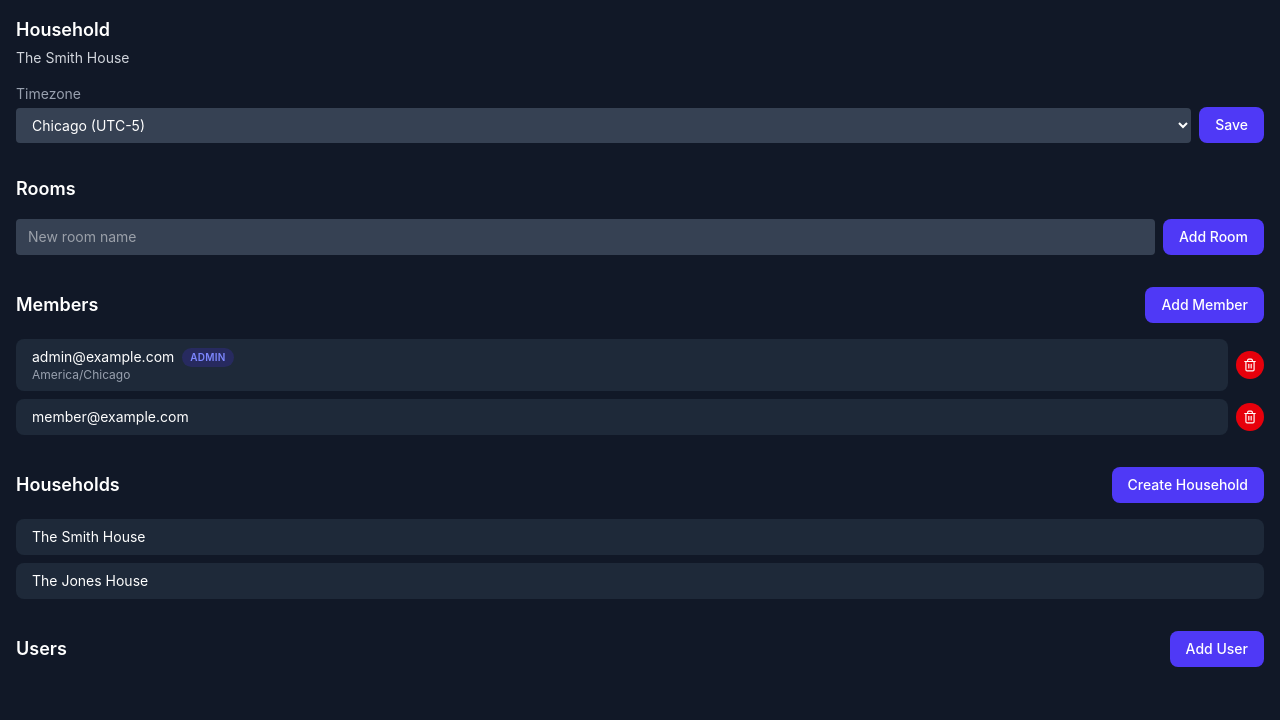
AdminPanel › submits the Add User form to POST /api/admin/members and appends to the list for the current household
Check: the text "admin@example.com" is shown, box [32,347,174,367]
Step 1. Click the button "Add User" → (1217, 649), box [1170,631,1264,667]
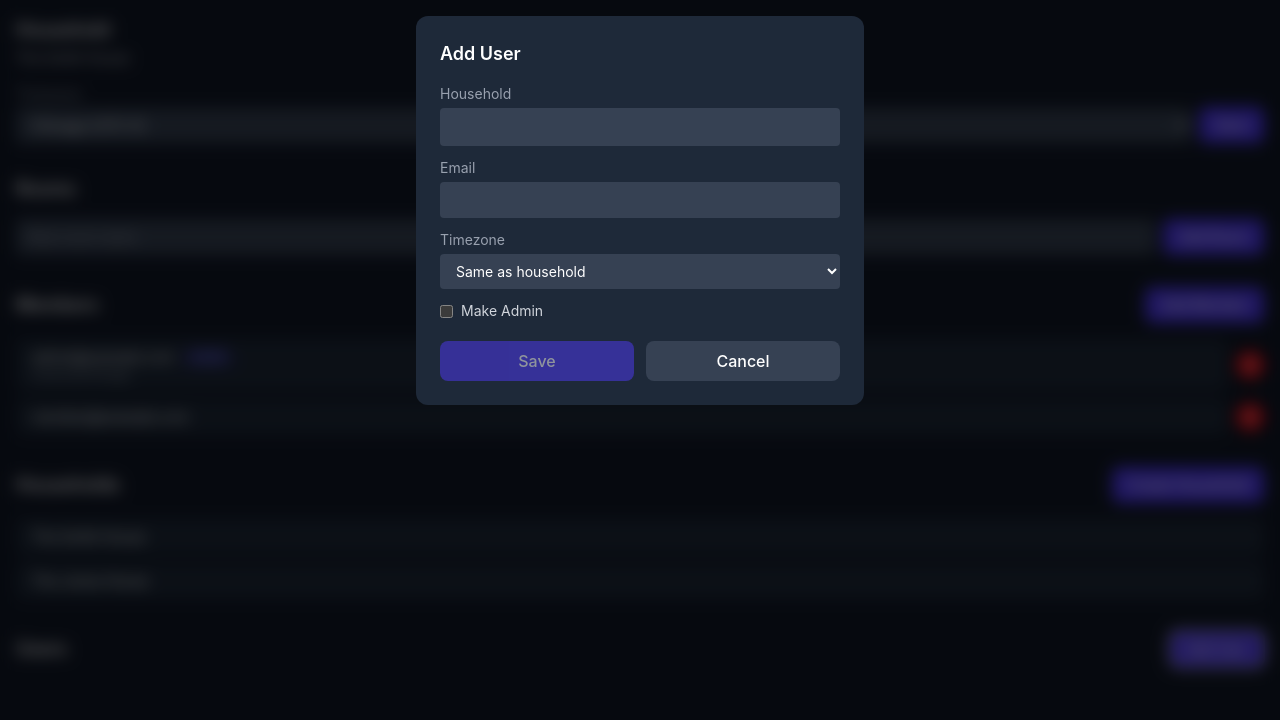
Step 2. Type "Smith" into the dropdown labelled "Household" → (640, 127), box [440,108,840,146]
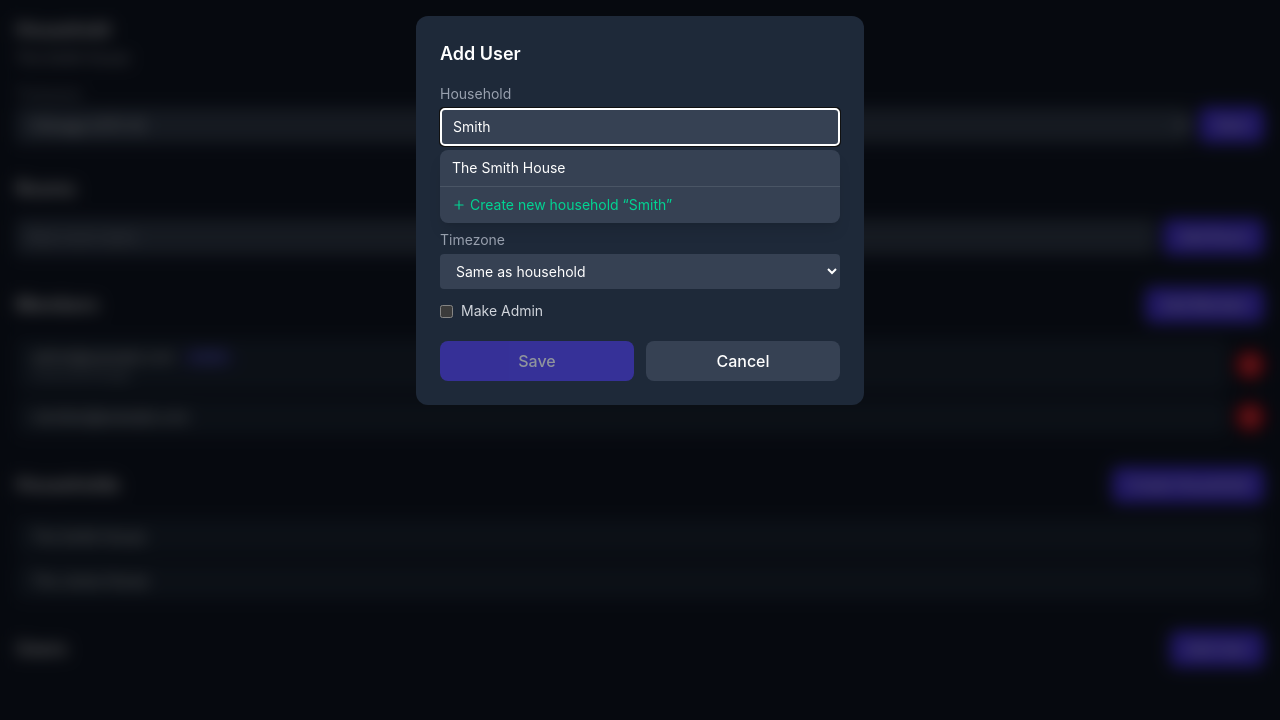
Step 3. Click the option "The Smith House" → (509, 168), box [452,159,566,176]
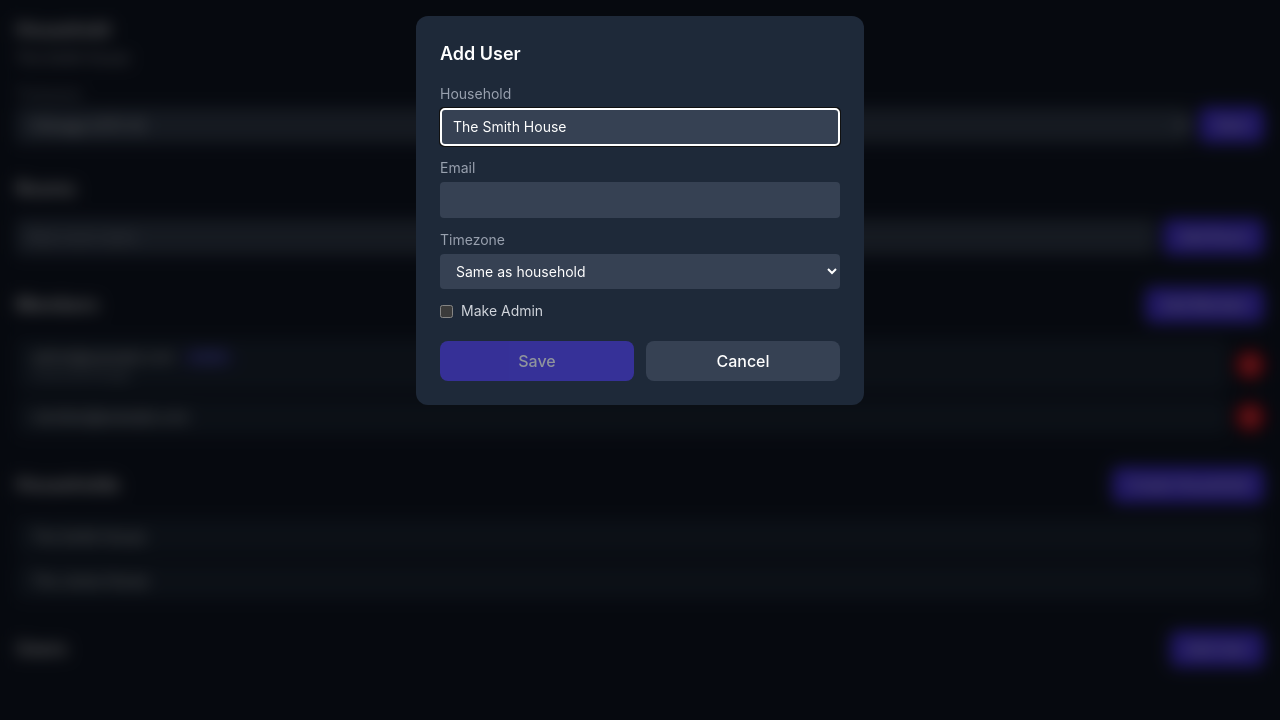
Step 4. Type "new-user@example.com" into the field labelled "Email" → (640, 200), box [440,182,840,218]
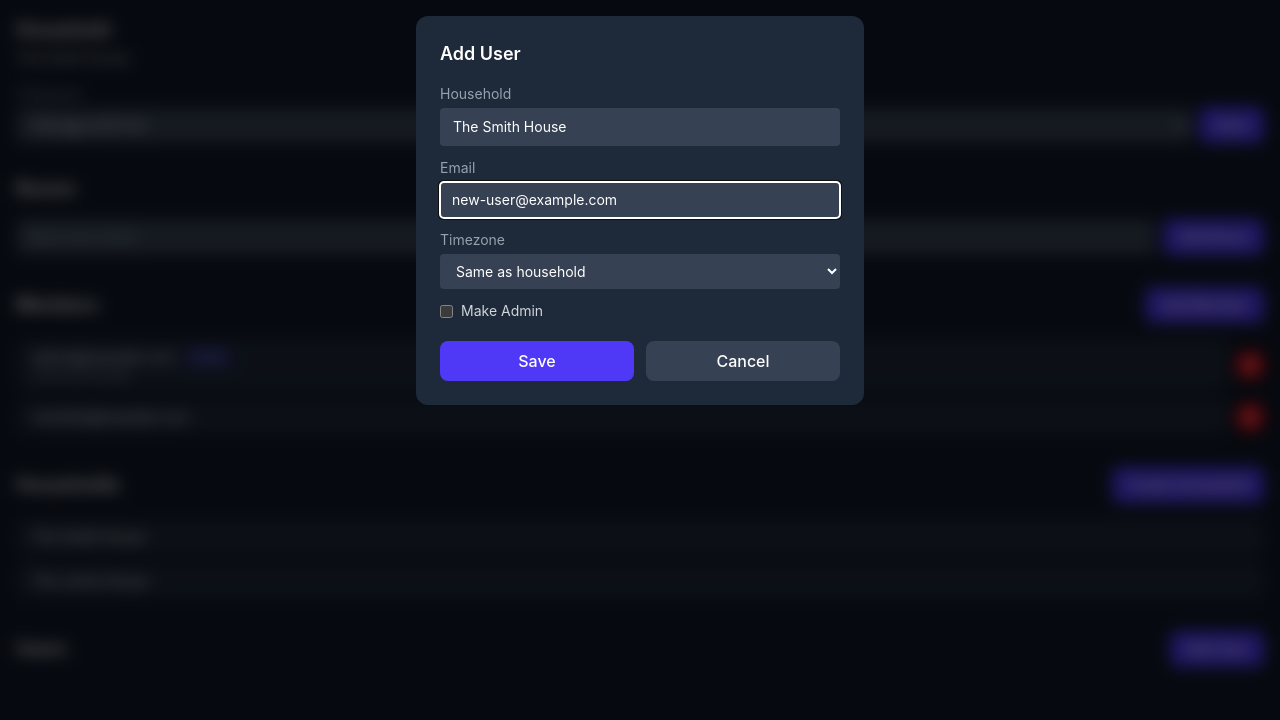
Step 5. Click the button "Save" → (537, 361), box [440,341,634,381]
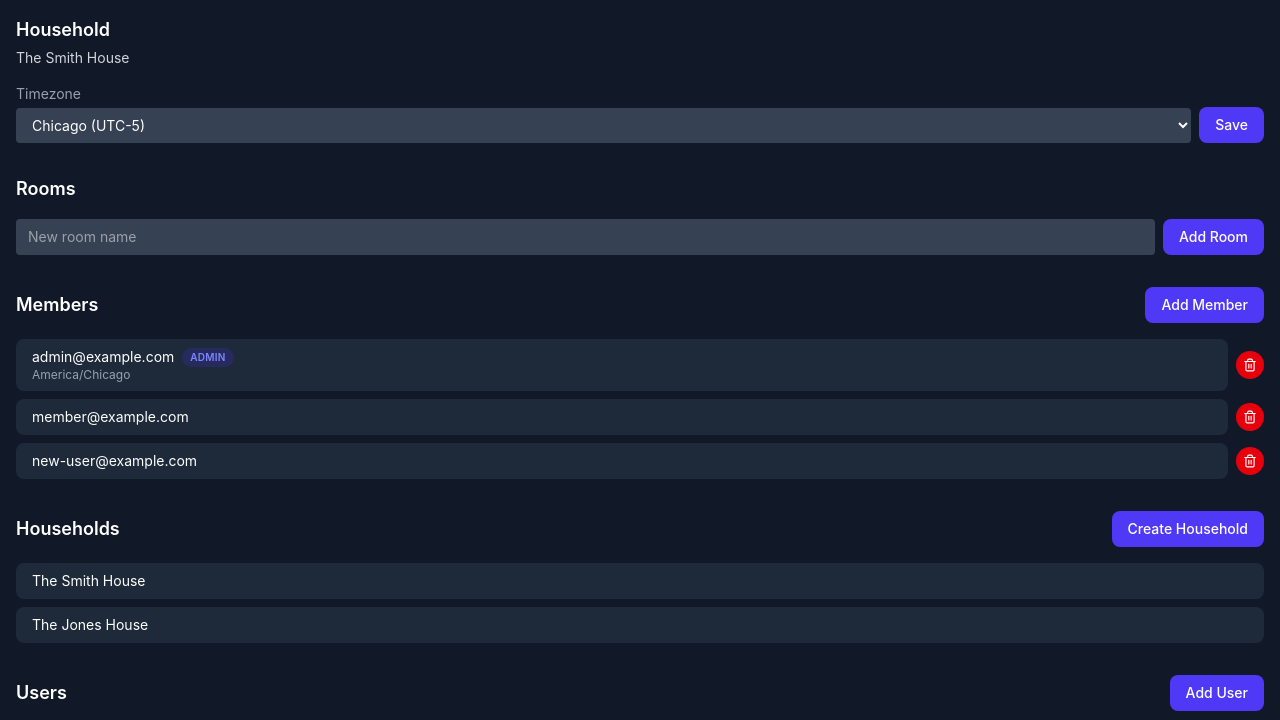
Check: the text "new-user@example.com" is shown, box [32,451,197,471]
